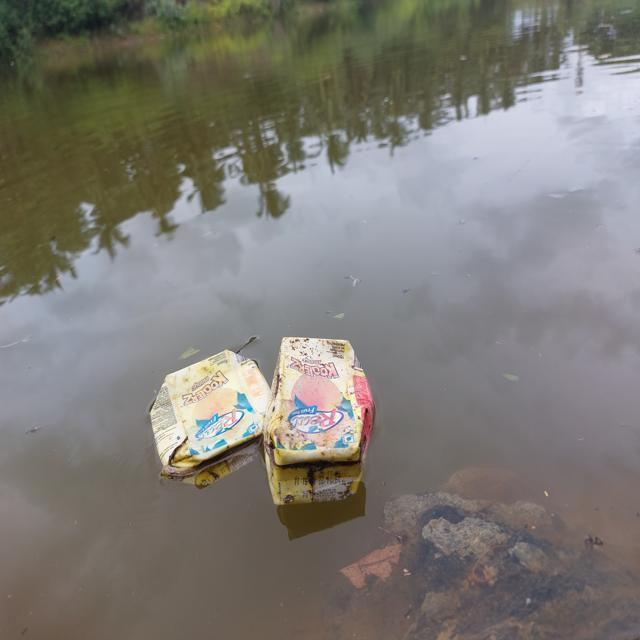paper: (123, 324, 264, 477), (277, 335, 379, 485)
